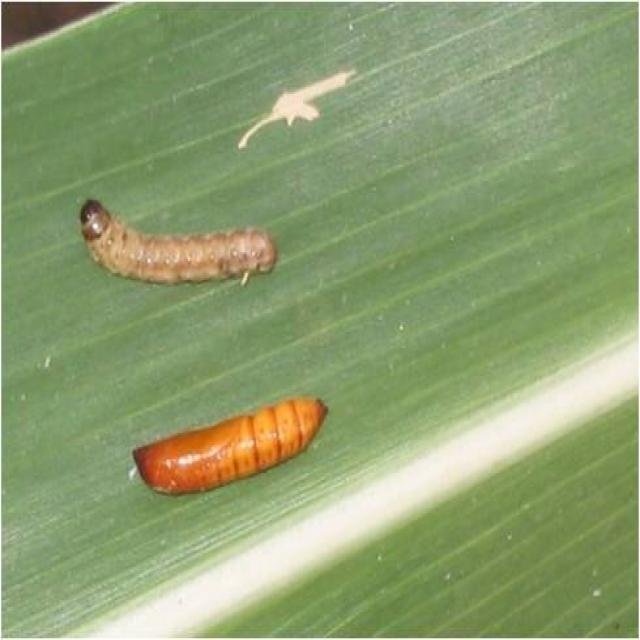cornborer-Larva-: (63, 179, 285, 296)
